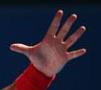down: (7, 10, 88, 77)
